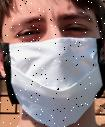with_mask: (1, 1, 105, 127)
